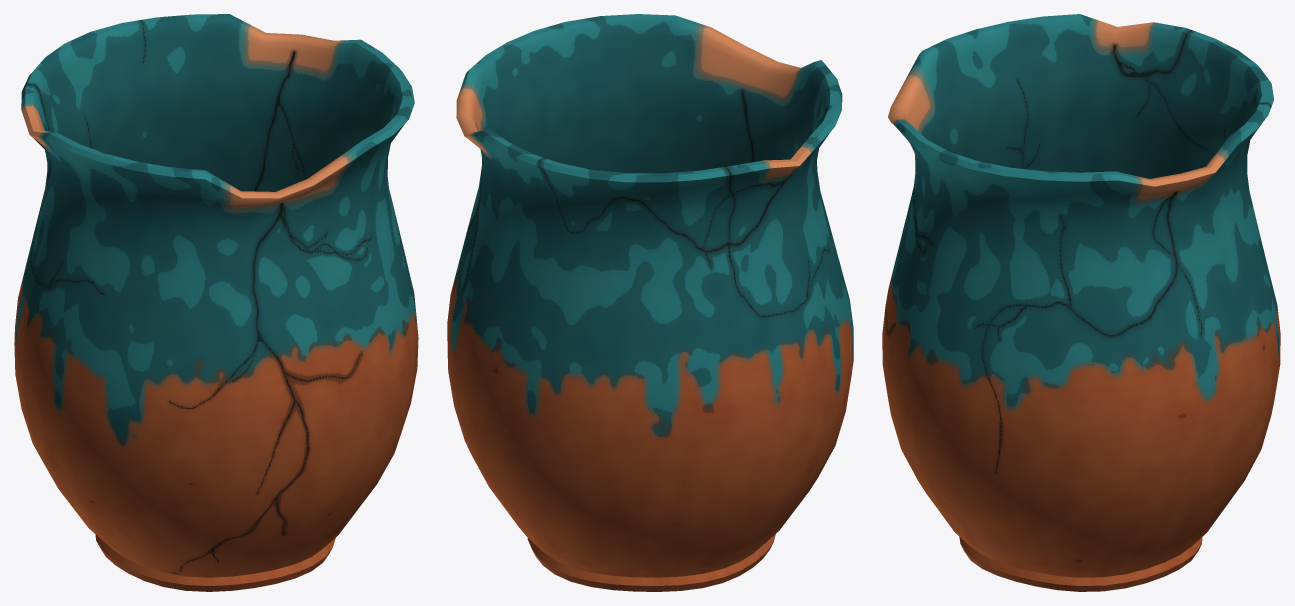
File: Cup_Clay.fbx
3 renders of one model, left to right at view 1: azimuth 30°, elevation 25°; view 2: azimuth 150°, elevation 25°; view 3: azimuth 270°, elevation 25°, orthographic.
Visible parts, largest first — view 1: Cup_Clay; view 2: Cup_Clay; view 3: Cup_Clay.
Boxes of the visible parts, box(x1,y1,x2,y2) form: Cup_Clay: box(14, 14, 418, 591); Cup_Clay: box(447, 14, 853, 591); Cup_Clay: box(882, 14, 1280, 591).
Size of the model in its own units: 0.7395 by 0.9 by 0.7242.
Materials: 1 (1 with a texture image).
